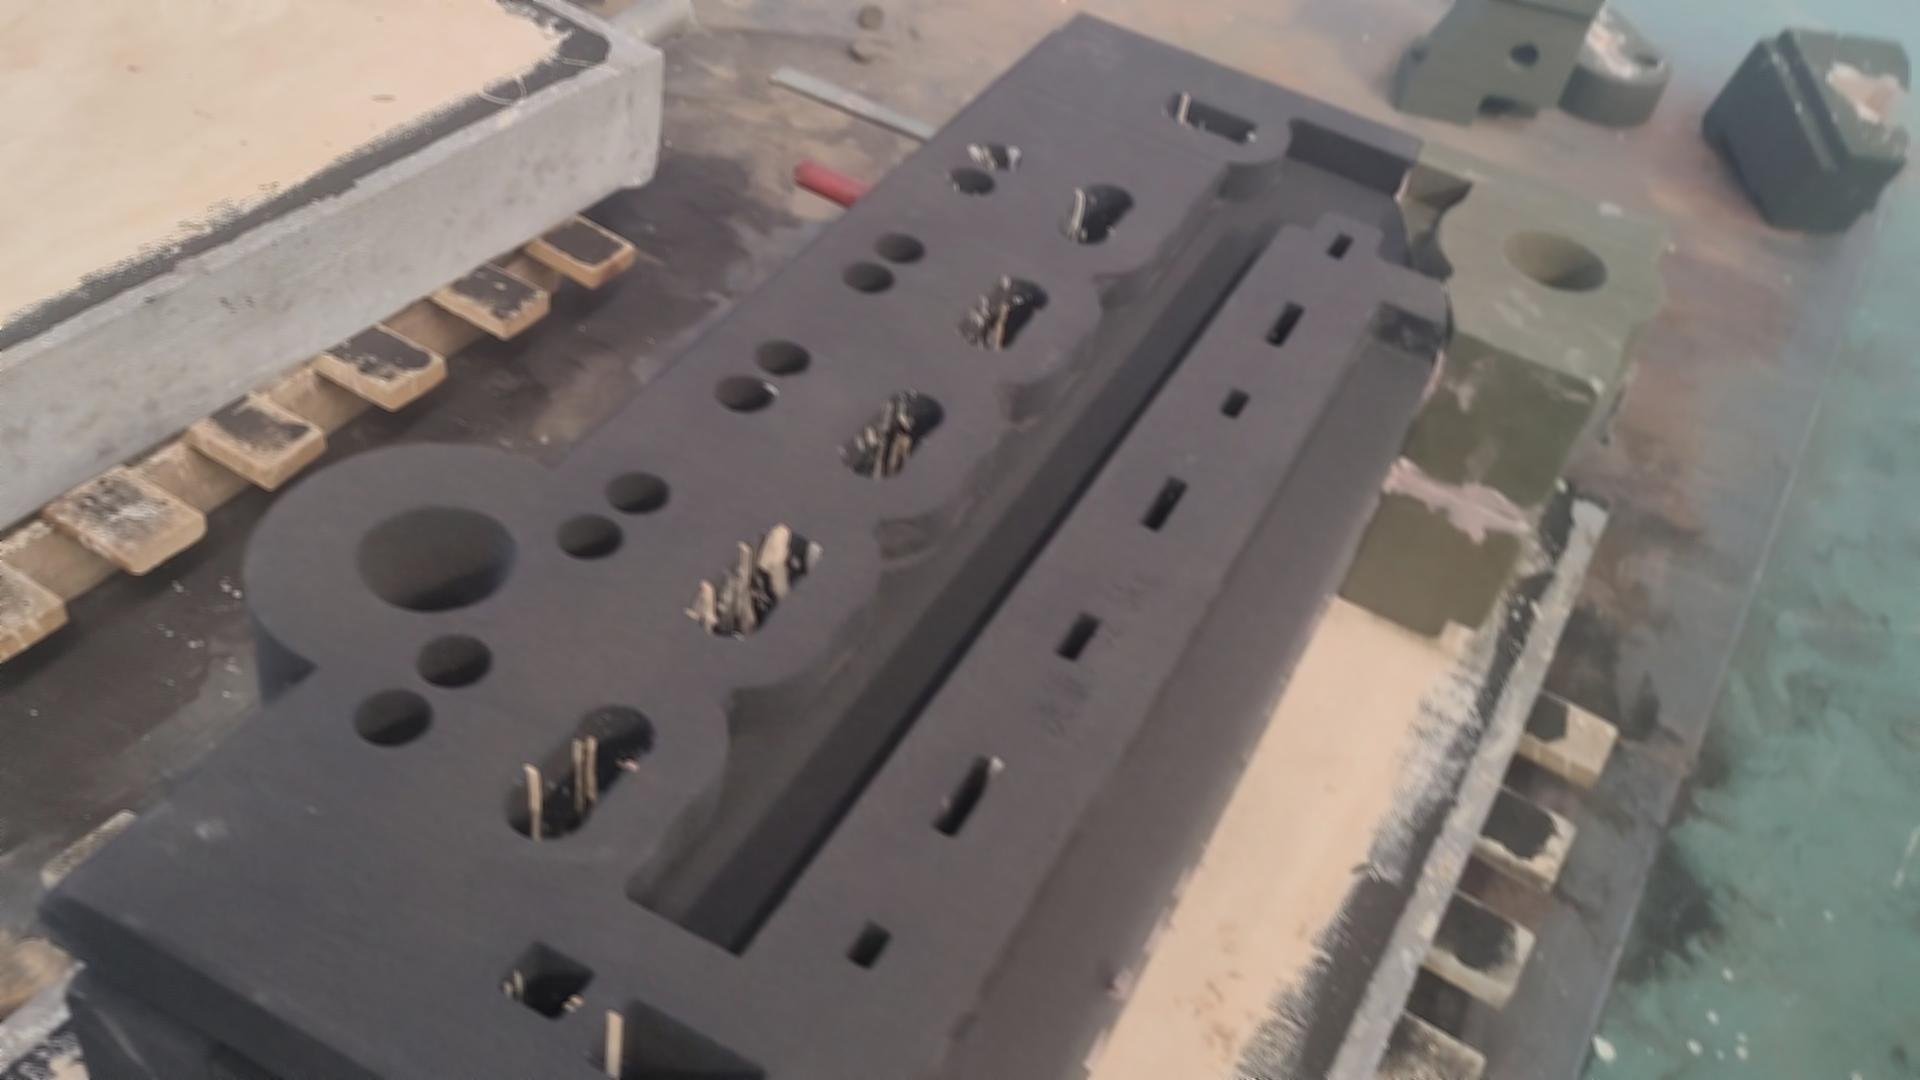pouring hole: (352, 502, 517, 612), (1498, 227, 1610, 295)
